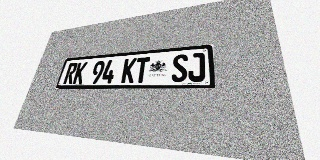4: (101, 60, 117, 83)
9: (90, 60, 106, 84)
J: (188, 52, 205, 82)
K: (121, 58, 137, 83), (72, 62, 88, 84)
R: (63, 63, 78, 84)
S: (171, 54, 188, 82)
T: (134, 57, 150, 83)
